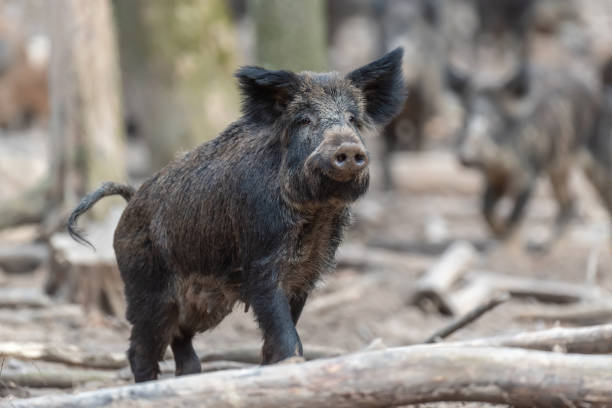pig: (52, 57, 411, 353)
